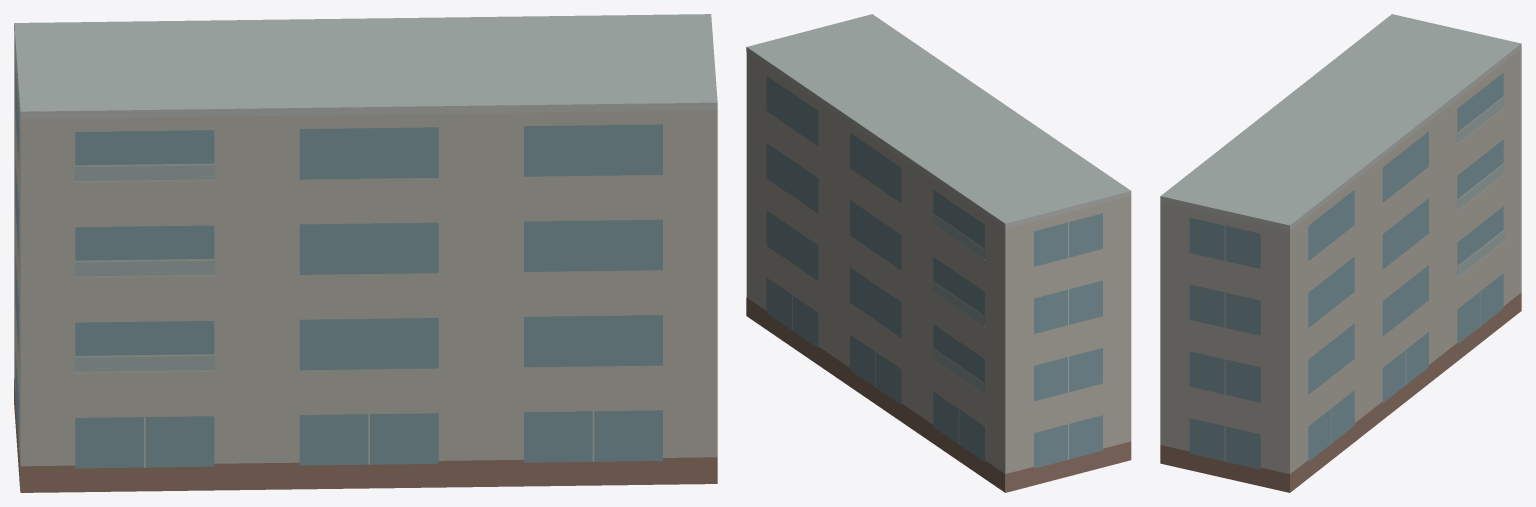
The model's file is residential-6ae75d6c-fc6f-49ac-85ae-09921caac33f.glb.
The picture shows the model from 3 angles, left to right: view 1: azimuth 30°, elevation 25°; view 2: azimuth 150°, elevation 25°; view 3: azimuth 270°, elevation 25°; orthographic projection. The views are drawn at different scales.
Parts seen in each view (by area): view 1: residential-6ae75d6c-fc6f-49ac-85ae-09921caac33f.tmp; view 2: residential-6ae75d6c-fc6f-49ac-85ae-09921caac33f.tmp; view 3: residential-6ae75d6c-fc6f-49ac-85ae-09921caac33f.tmp.
Part boxes in pixels (box(x1,y1,x2,y2)): residential-6ae75d6c-fc6f-49ac-85ae-09921caac33f.tmp: box(14, 14, 717, 492); residential-6ae75d6c-fc6f-49ac-85ae-09921caac33f.tmp: box(746, 14, 1131, 492); residential-6ae75d6c-fc6f-49ac-85ae-09921caac33f.tmp: box(1160, 14, 1521, 492).
Bounding box in the file's own units: 20.7 × 12.2 × 14.94.
